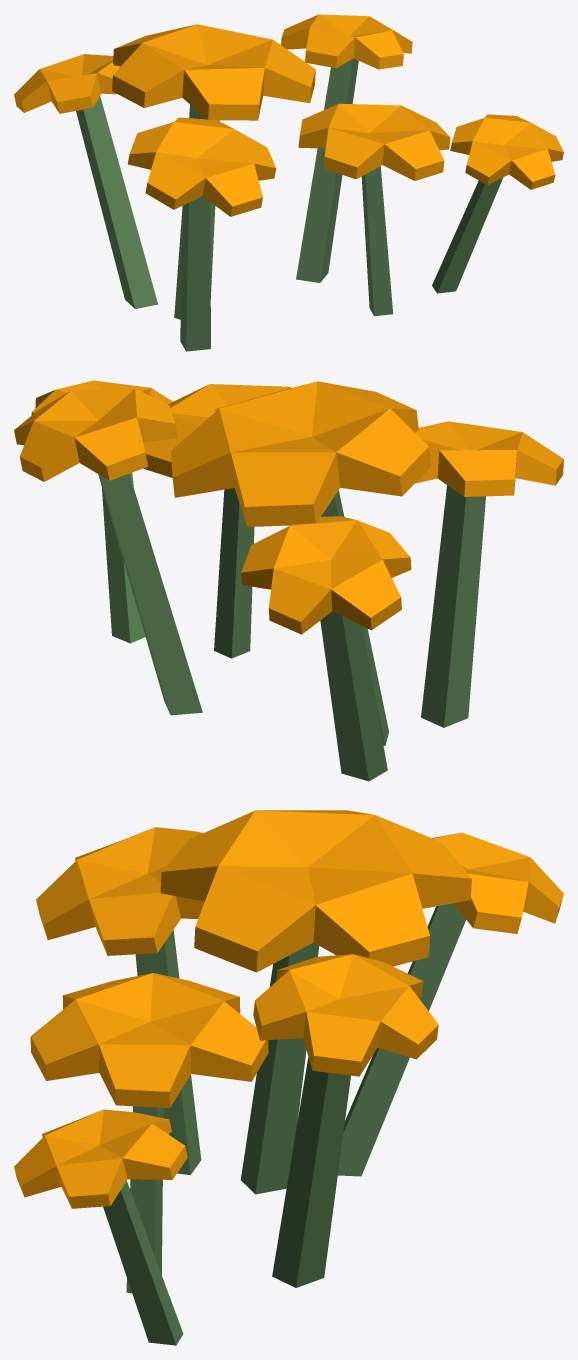
File: flowerbed.glb
3 renders of one model, top to bottom at view 1: azimuth 30°, elevation 25°; view 2: azimuth 150°, elevation 25°; view 3: azimuth 270°, elevation 25°, orthographic. The views are drawn at different scales.
Parts seen in each view (by area): view 1: SM_Env_FlowerPatch_01; view 2: SM_Env_FlowerPatch_01; view 3: SM_Env_FlowerPatch_01.
Part boxes in pixels (<box>): SM_Env_FlowerPatch_01: <box>14,14,563,351</box>; SM_Env_FlowerPatch_01: <box>14,380,563,781</box>; SM_Env_FlowerPatch_01: <box>14,810,563,1345</box>.
Bounding box in the file's own units: 1.75 × 1.04 × 1.42.
Materials: 1 (1 with a texture image).
